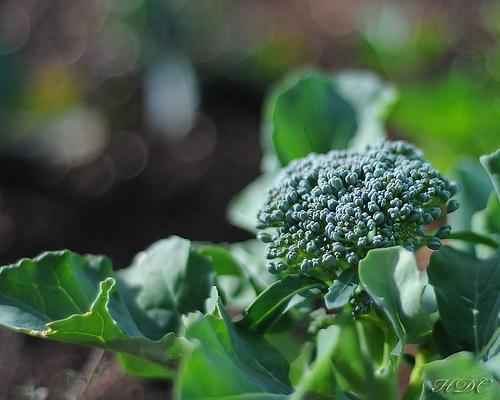broccoli: (255, 138, 461, 400)
